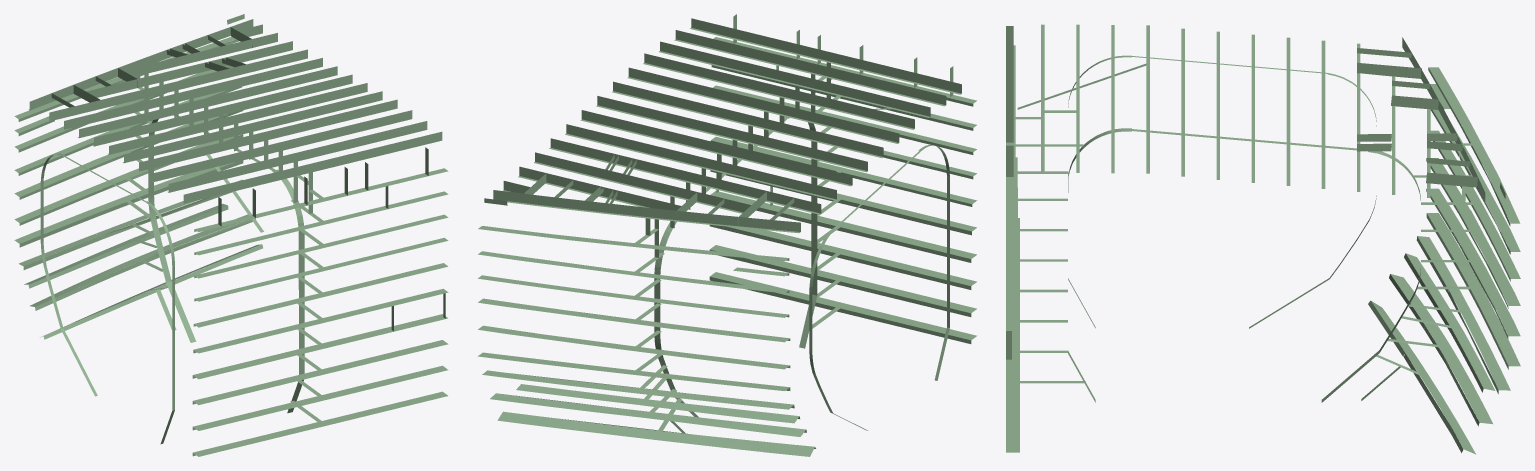
Rendered from NO_2_DIESEL_OIL_TK_SERV_PS.glb.
3 views of the same model, side by side, from view 1: azimuth 30°, elevation 25°; view 2: azimuth 150°, elevation 25°; view 3: azimuth 270°, elevation 25° (orthographic). The views are drawn at different scales.
Parts seen in each view (by area): view 1: ST_UDxEPRPxDL14xWeb_001002-IA_300x90x13x17_NVA_1993, ST_UDxEPRPxDL16xWeb_001002-IA_300x90x13x17_NVA_1993, ST_UDxEPRPxDL17xWeb_001002-IA_300x90x13x17_NVA_1993, ST_UDxEPRPxDL19xWeb_002001-IA_300x90x13x17_NVA_1993, ST_UDxEPRPxDL20xWeb_001002-IA_300x90x13x17_NVA_1993, ST_UDxEPRPxDL15xWeb_001002-IA_300x90x13x17_NVA_1993, ST_UDxEPRPxDL22xWeb_001002-IA_300x90x13x17_NVA_1993, ST_UDxEPRPxDL23xWeb_001002-IA_300x90x13x17_NVA_1993, ST_UDxEPRPxDL18xWeb_001002-IA_300x90x13x17_NVA_1993, ST_UDxEPRPxDL21xWeb_001002-IA_300x90x13x17_NVA_1993, ST_UDxEPRPxDL24xWeb_091002-IA_300x90x13x17_NVA_1993, ST_UDxEPRPxDL25xWeb_092002-IA_300x90x13x17_NVA_1993 (+38 smaller); view 2: ST_OuterShellxEPRPxL53xWeb_002004-IA_360x125x10x15_NVA32_199, ST_UDxEPRPxDL30xWeb_001002-IA_300x90x13x17_NVA_1993, ST_UDxEPRPxDL20xWeb_001002-IA_300x90x13x17_NVA_1993, ST_UDxEPRPxDL21xWeb_001002-IA_300x90x13x17_NVA_1993, ST_UDxEPRPxDL15xWeb_001002-IA_300x90x13x17_NVA_1993, ST_UDxEPRPxDL17xWeb_001002-IA_300x90x13x17_NVA_1993, ST_UDxEPRPxDL18xWeb_001002-IA_300x90x13x17_NVA_1993, ST_UDxEPRPxDL19xWeb_002001-IA_300x90x13x17_NVA_1993, ST_UDxEPRPxDL14xWeb_001002-IA_300x90x13x17_NVA_1993, ST_UDxEPRPxDL16xWeb_001002-IA_300x90x13x17_NVA_1993, ST_UDxEPRPxDL22xWeb_001002-IA_300x90x13x17_NVA_1993, ST_UDxEPRPxDL24xWeb_091002-IA_300x90x13x17_NVA_1993 (+43 smaller); view 3: ST_OuterShellxEPRPxL56xWeb_002001-IA_312.5x125x10x12.5_NVA32, ST_OuterShellxEPRPxL57xWeb_003004-IA_316x90x11x16_NVA32_1993, ST_OuterShellxEPRPxL58xWeb_003004-IA_316x90x11x16_NVA32_1993, ST_OuterShellxEPRPxL55xWeb_001004-IA_316.5x125x10x16.5_NVA32, ST_OuterShellxEPRPxL60A2xWeb_001004-IA_265x90x10x15_NVA32_19, ST_OuterShellxEPRPxL54xWeb_007001-IA_360.5x125x10x15.5_NVA32, ST_OuterShellxEPRPxL59xWeb_001001-IA_265x90x10x15_NVA32_1993, ST_OuterShellxEPRPxL53xWeb_002004-IA_360x125x10x15_NVA32_199, ST_OuterShellxEPRPxL60xWeb_002002-IA_265x90x10x15_NVA32_1993, ST_UDxEPRP_042001-FB_300x12_NVA_1993, ST_OuterShellxEPRPxL54A1xWeb_001001-IA_314.5x125x10x14.5_NVA, ST_UDxEPRP_037001-FB_300x22_NVA36_2014 (+3 smaller).
Boxes of the visible parts, x1,y1,x2,y2 form: ST_UDxEPRPxDL14xWeb_001002-IA_300x90x13x17_NVA_1993: (274, 131, 442, 181); ST_UDxEPRPxDL16xWeb_001002-IA_300x90x13x17_NVA_1993: (244, 110, 412, 159); ST_UDxEPRPxDL17xWeb_001002-IA_300x90x13x17_NVA_1993: (229, 99, 397, 149); ST_UDxEPRPxDL19xWeb_002001-IA_300x90x13x17_NVA_1993: (199, 83, 367, 132); ST_UDxEPRPxDL20xWeb_001002-IA_300x90x13x17_NVA_1993: (184, 74, 352, 124); ST_UDxEPRPxDL15xWeb_001002-IA_300x90x13x17_NVA_1993: (259, 121, 427, 170); ST_UDxEPRPxDL22xWeb_001002-IA_300x90x13x17_NVA_1993: (154, 58, 322, 107); ST_UDxEPRPxDL23xWeb_001002-IA_300x90x13x17_NVA_1993: (139, 49, 307, 99); ST_UDxEPRPxDL18xWeb_001002-IA_300x90x13x17_NVA_1993: (214, 91, 382, 140); ST_UDxEPRPxDL21xWeb_001002-IA_300x90x13x17_NVA_1993: (169, 66, 337, 115); ST_UDxEPRPxDL24xWeb_091002-IA_300x90x13x17_NVA_1993: (124, 41, 292, 90); ST_UDxEPRPxDL25xWeb_092002-IA_300x90x13x17_NVA_1993: (123, 33, 277, 76); ST_OuterShellxEPRPxL53xWeb_002004-IA_360x125x10x15_NVA32_199: (497, 411, 704, 444); ST_UDxEPRPxDL30xWeb_001002-IA_300x90x13x17_NVA_1993: (493, 190, 691, 221); ST_UDxEPRPxDL20xWeb_001002-IA_300x90x13x17_NVA_1993: (597, 96, 773, 147); ST_UDxEPRPxDL21xWeb_001002-IA_300x90x13x17_NVA_1993: (581, 110, 757, 161); ST_UDxEPRPxDL15xWeb_001002-IA_300x90x13x17_NVA_1993: (675, 30, 851, 81); ST_UDxEPRPxDL17xWeb_001002-IA_300x90x13x17_NVA_1993: (644, 53, 820, 105); ST_UDxEPRPxDL18xWeb_001002-IA_300x90x13x17_NVA_1993: (628, 67, 804, 119); ST_UDxEPRPxDL19xWeb_002001-IA_300x90x13x17_NVA_1993: (613, 81, 788, 133); ST_UDxEPRPxDL14xWeb_001002-IA_300x90x13x17_NVA_1993: (691, 18, 866, 70); ST_UDxEPRPxDL16xWeb_001002-IA_300x90x13x17_NVA_1993: (660, 41, 835, 93); ST_UDxEPRPxDL22xWeb_001002-IA_300x90x13x17_NVA_1993: (566, 124, 741, 176); ST_UDxEPRPxDL24xWeb_091002-IA_300x90x13x17_NVA_1993: (535, 152, 710, 204); ST_OuterShellxEPRPxL56xWeb_002001-IA_312.5x125x10x12.5_NVA32: (1458, 266, 1520, 366); ST_OuterShellxEPRPxL57xWeb_003004-IA_316x90x11x16_NVA32_1993: (1458, 240, 1520, 336); ST_OuterShellxEPRPxL58xWeb_003004-IA_316x90x11x16_NVA32_1993: (1458, 210, 1520, 305); ST_OuterShellxEPRPxL55xWeb_001004-IA_316.5x125x10x16.5_NVA32: (1449, 289, 1510, 390); ST_OuterShellxEPRPxL60A2xWeb_001004-IA_265x90x10x15_NVA32_19: (1460, 122, 1520, 223); ST_OuterShellxEPRPxL54xWeb_007001-IA_360.5x125x10x15.5_NVA32: (1439, 347, 1492, 424); ST_OuterShellxEPRPxL59xWeb_001001-IA_265x90x10x15_NVA32_1993: (1465, 186, 1520, 278); ST_OuterShellxEPRPxL53xWeb_002004-IA_360x125x10x15_NVA32_199: (1405, 353, 1475, 454); ST_OuterShellxEPRPxL60xWeb_002002-IA_265x90x10x15_NVA32_1993: (1460, 155, 1520, 251); ST_UDxEPRP_042001-FB_300x12_NVA_1993: (1357, 62, 1421, 78); ST_OuterShellxEPRPxL54A1xWeb_001001-IA_314.5x125x10x14.5_NVA: (1451, 328, 1495, 390); ST_UDxEPRP_037001-FB_300x22_NVA36_2014: (1426, 172, 1477, 187).
Bounding box in the file's own units: 9 × 8.9 × 13.21.
